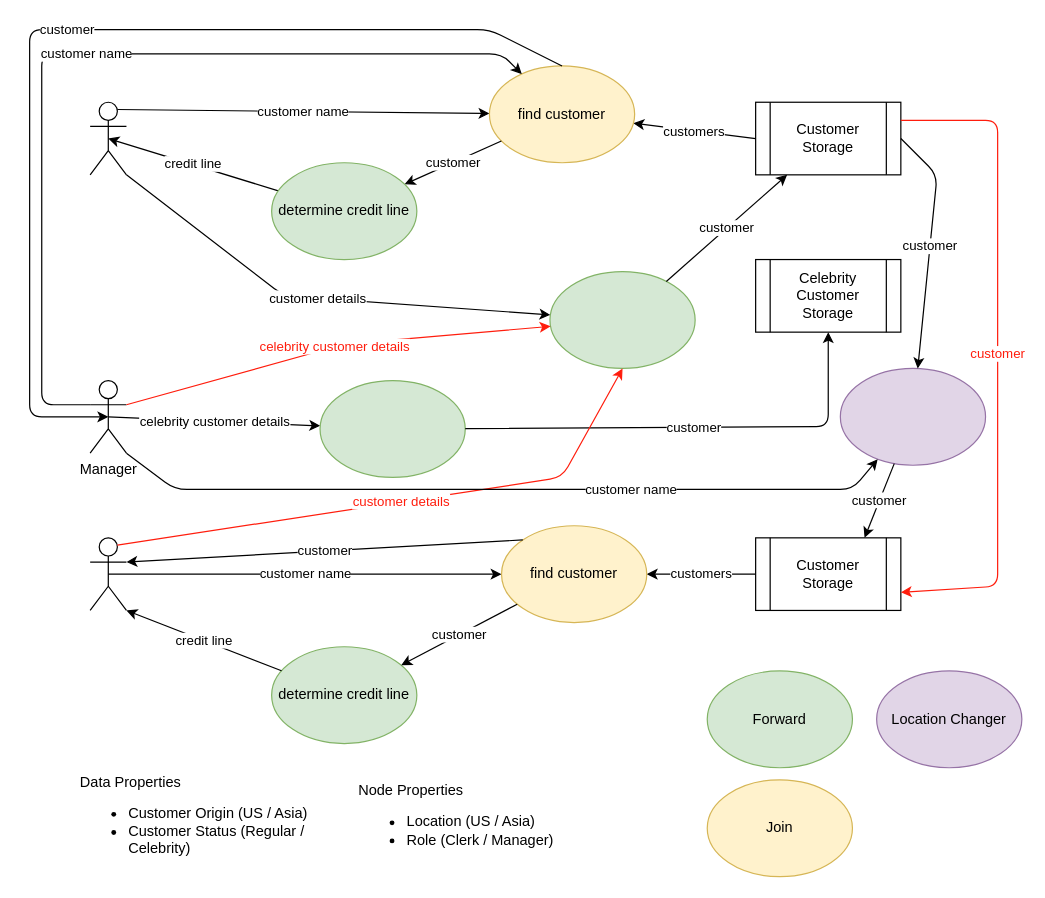
Image size: 1045x898. Some labels were removed from this diagram. The centre of each missing label's shape, as x and y in pixels:
"Clerk Asia" goes at (x=107, y=573).
"Clerk US" goes at (x=107, y=138).
"move customer" goes at (x=912, y=416).
"register celebrity" goes at (x=392, y=428).
"register customer" goes at (x=622, y=319).
